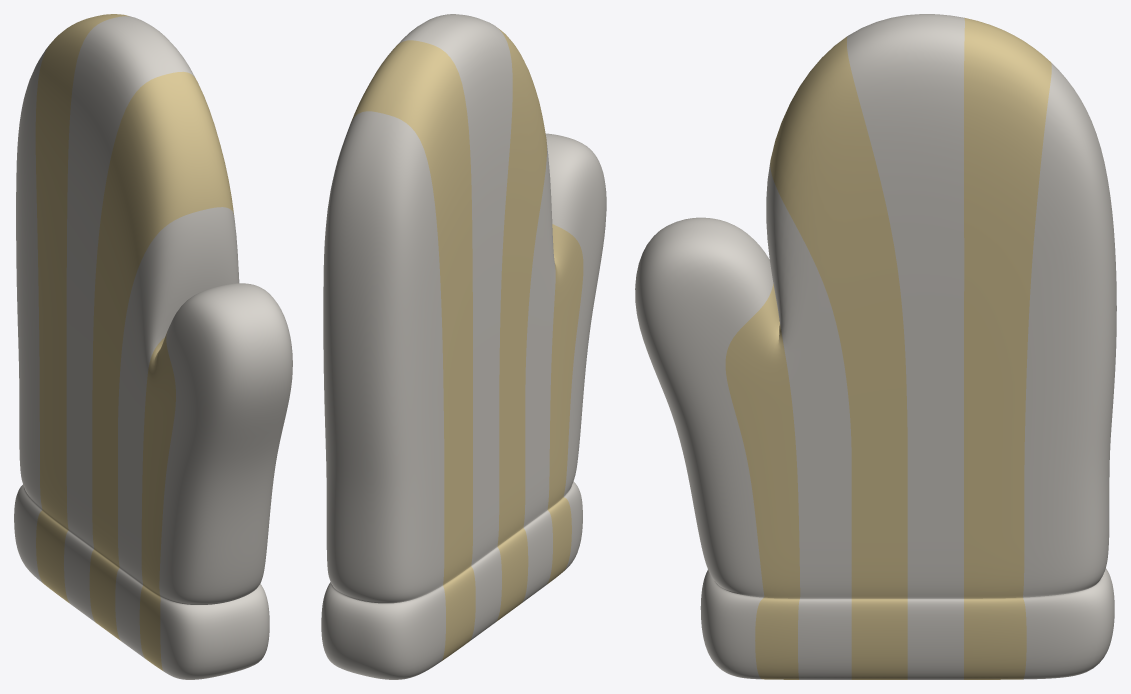
Rendered from Glove.fbx.
3 views of the same model, side by side, from view 1: azimuth 30°, elevation 25°; view 2: azimuth 150°, elevation 25°; view 3: azimuth 270°, elevation 25° (orthographic). The views are drawn at different scales.
Visible parts, largest first — view 1: Cube; view 2: Cube; view 3: Cube.
Boxes of the visible parts, left/top/right/bottom form: Cube: left=14, top=14, right=292, bottom=679; Cube: left=321, top=14, right=606, bottom=679; Cube: left=635, top=14, right=1116, bottom=679.
Size of the model in its own units: 44.52 by 244 by 167.
